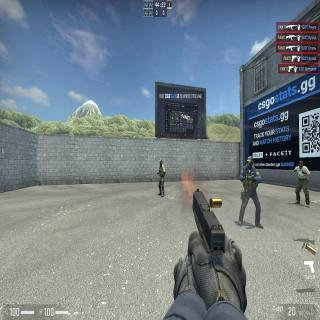CT-Body: (244, 157, 258, 227), (158, 160, 165, 196)
CT-Head: (248, 156, 252, 168), (160, 160, 162, 166)
T-Body: (296, 161, 308, 203)
T-Head: (299, 161, 303, 169)
